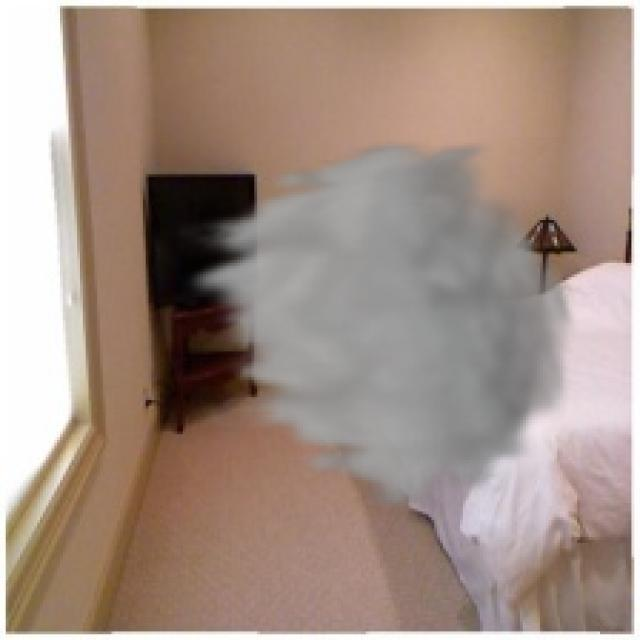Smoke: (174, 137, 583, 514)
